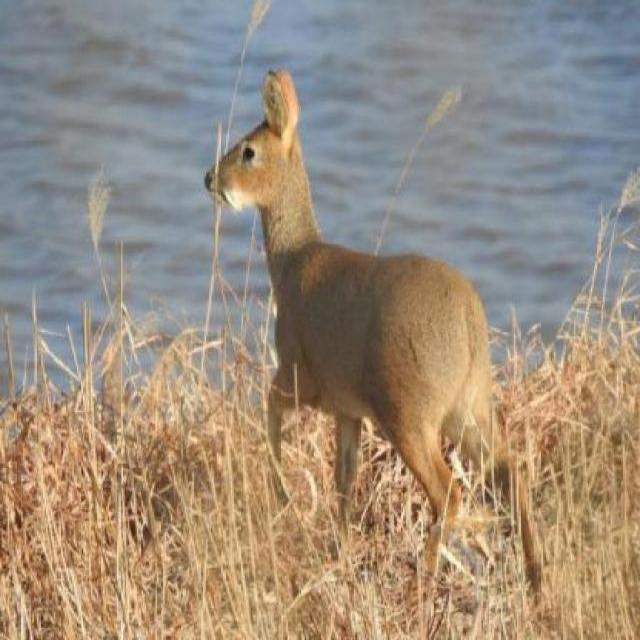deer: (182, 65, 556, 612)
